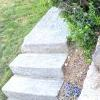stairs: (3, 38, 71, 98)
